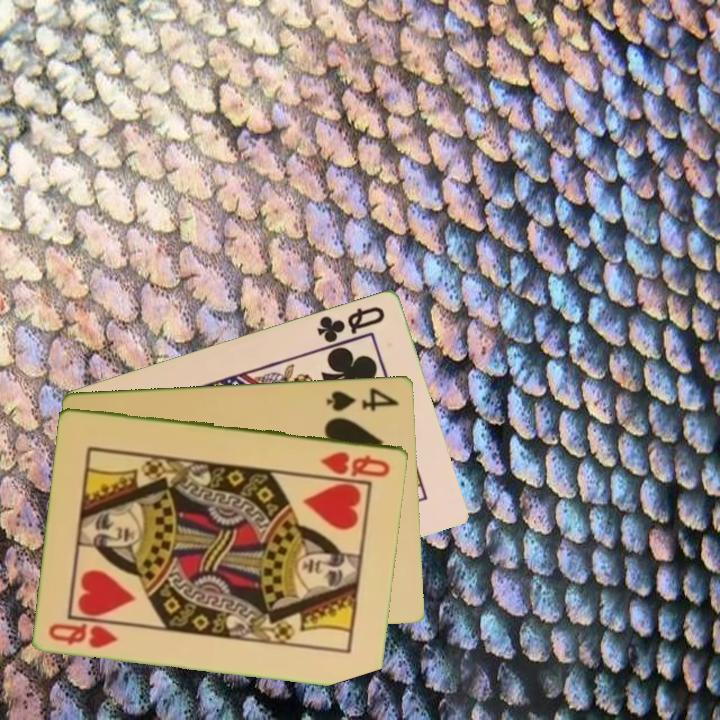4s: (323, 384, 402, 414)
Qc: (313, 302, 388, 345)
Qh: (317, 447, 394, 480), (45, 619, 121, 651)
